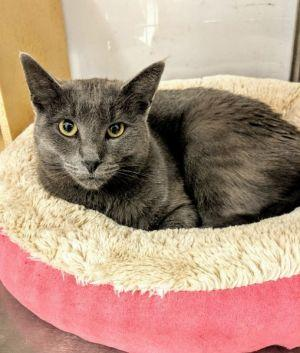rblue: (17, 46, 172, 198)
